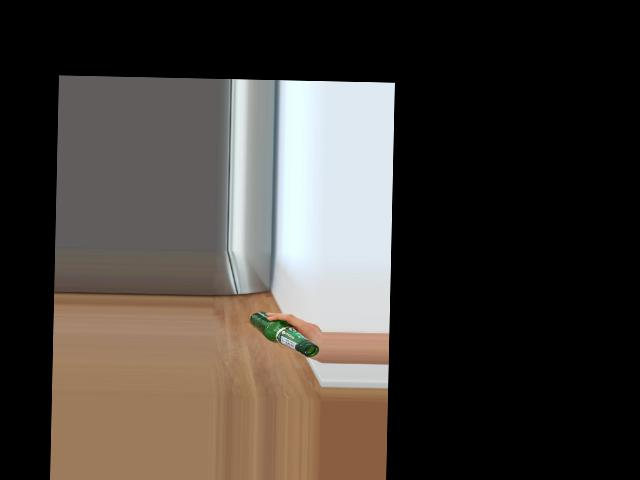beer: (249, 312, 320, 357)
